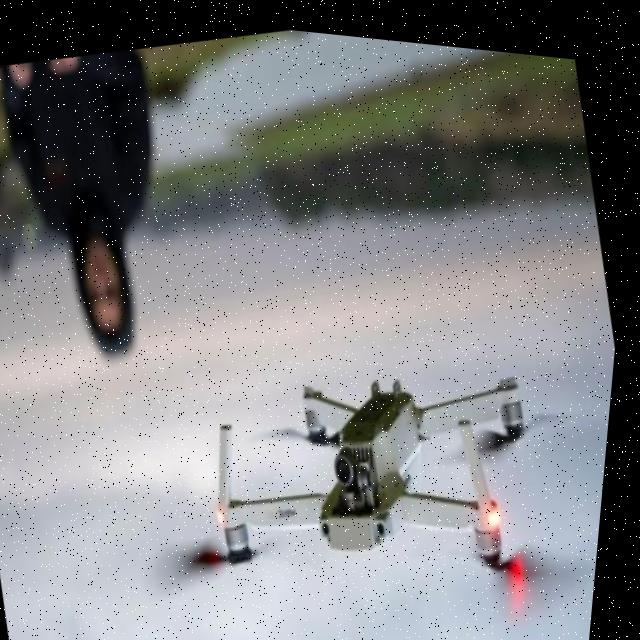drones: (71, 242, 624, 640)
